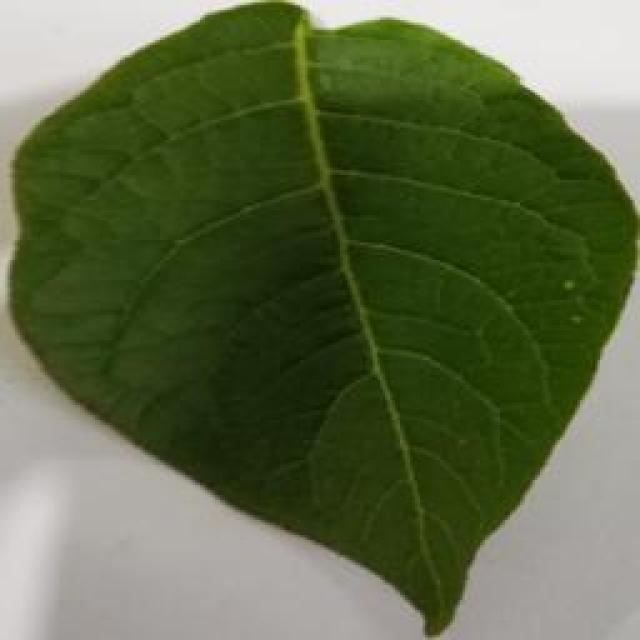Potato_Healthy: (5, 5, 624, 636)
